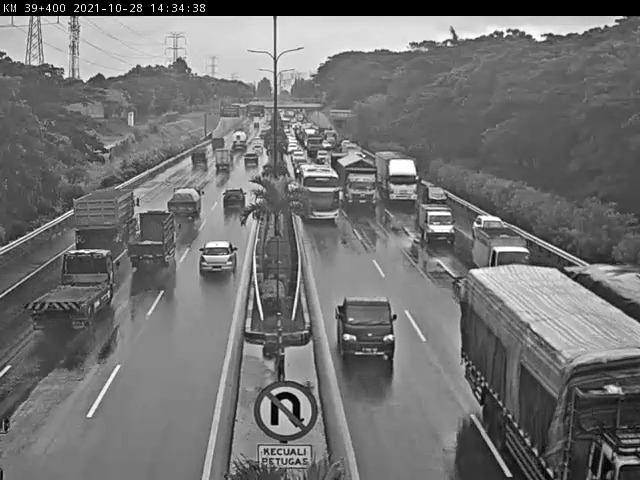big bus: (300, 164, 343, 222)
big truck: (457, 270, 640, 480), (74, 186, 142, 251), (375, 148, 421, 204), (336, 151, 380, 208)
car: (337, 299, 400, 363), (420, 204, 457, 246), (199, 243, 238, 274), (423, 181, 452, 205), (221, 187, 248, 210), (191, 148, 208, 165), (243, 152, 260, 165)
small truck: (26, 251, 123, 326), (127, 212, 181, 267), (472, 224, 531, 271), (164, 187, 205, 219), (214, 149, 233, 172)
